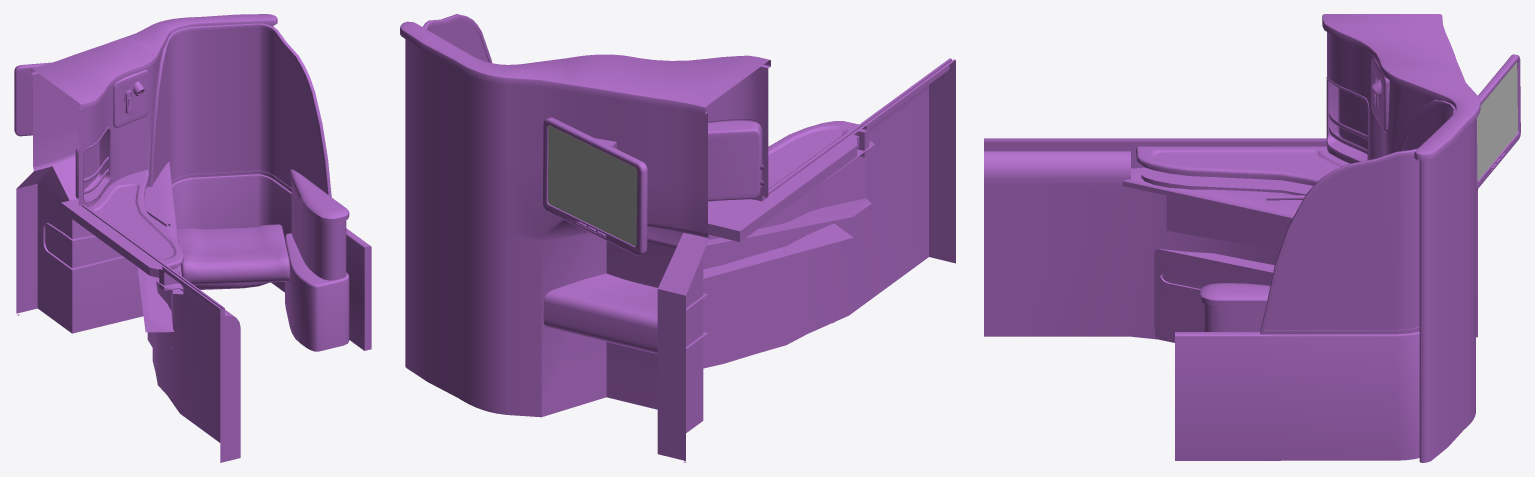
File: BC_seat_L.fbx
The picture shows the model from 3 angles, left to right: view 1: azimuth 30°, elevation 25°; view 2: azimuth 150°, elevation 25°; view 3: azimuth 270°, elevation 25°; orthographic projection. The views are drawn at different scales.
Visible parts, largest first — view 1: B_Seat_L, Seat_2_3, Screen_1_2; view 2: B_Seat_L, Screen_1_2; view 3: B_Seat_L, Screen_1_2.
Boxes of the visible parts, x1,y1,x2,y2 form: B_Seat_L: (16,14,371,462); Seat_2_3: (176,224,290,289); Screen_1_2: (14,62,51,136); B_Seat_L: (400,14,955,460); Screen_1_2: (542,117,647,255); B_Seat_L: (984,14,1480,462); Screen_1_2: (1476,54,1520,190).
Size of the model in its own units: 132 by 138 by 214.
